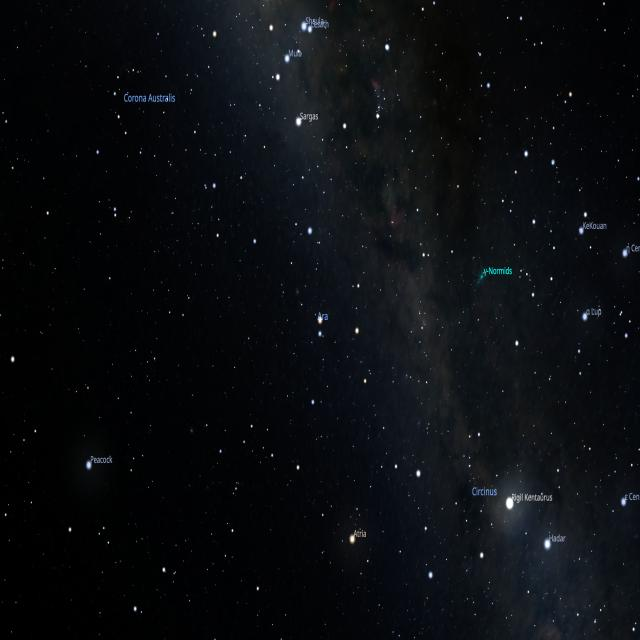Ara: (248, 223, 373, 407)
